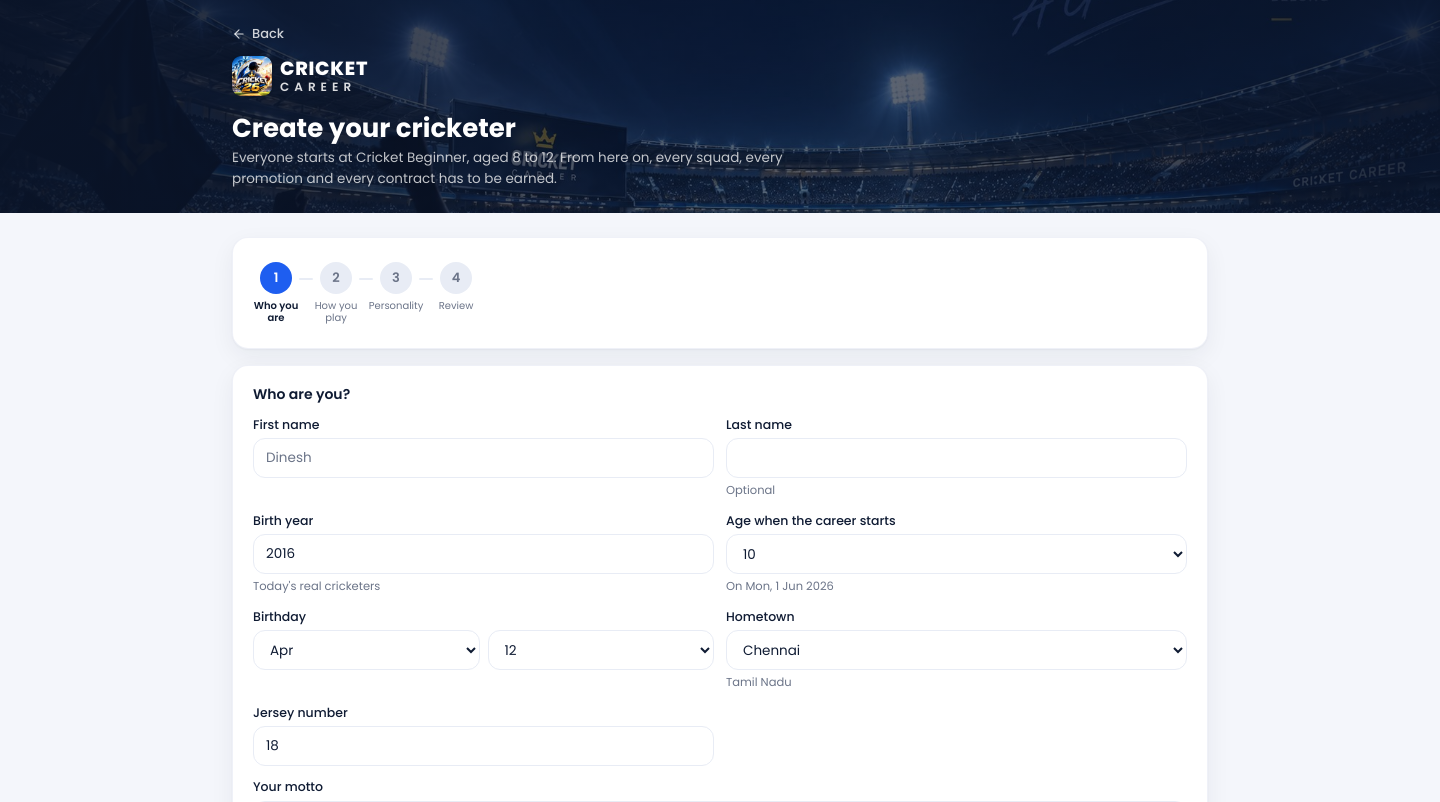
Test case: NewCareer wizard › will not start a career after today's season
This screenshot has width=1440, height=802.
Type "Kid" into the field labelled "First name" at (484, 458), box x1=253 y1=438 x2=714 y2=478
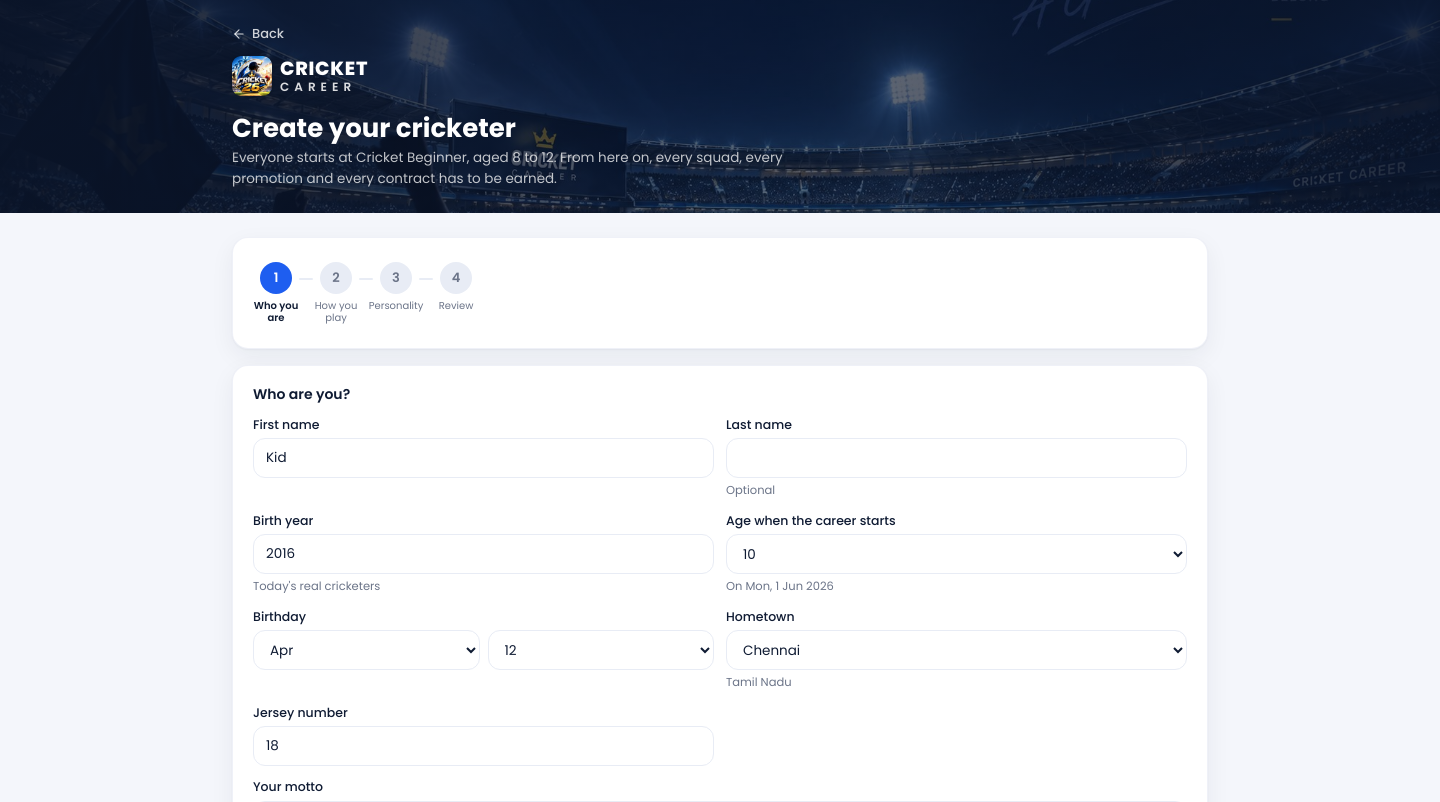
Replace the text in the number field labelled "Birth year" with "2017" at (484, 554), box x1=253 y1=534 x2=714 y2=574
(page scrolled)
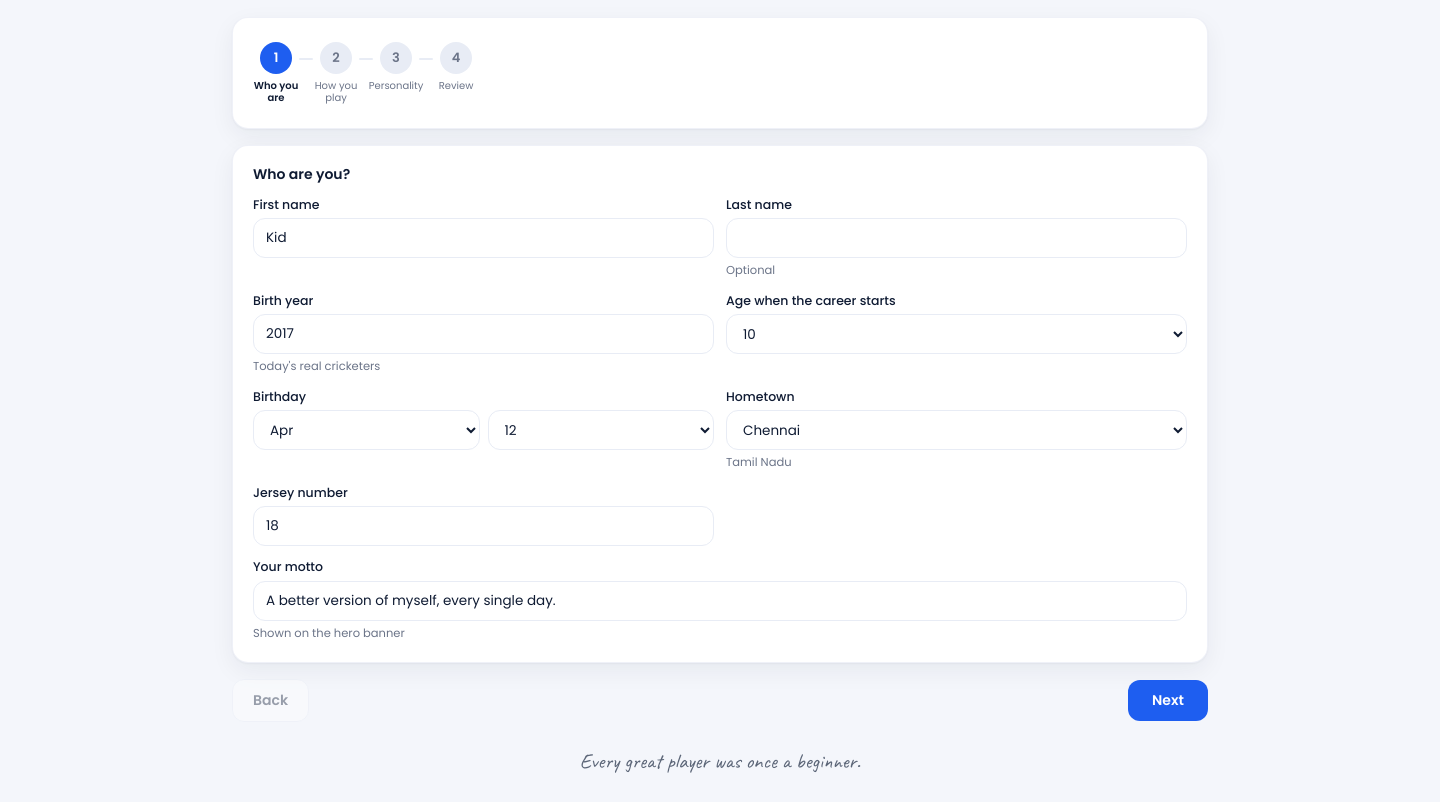
Click the button "Next" at (1168, 701), box x1=1128 y1=680 x2=1208 y2=721
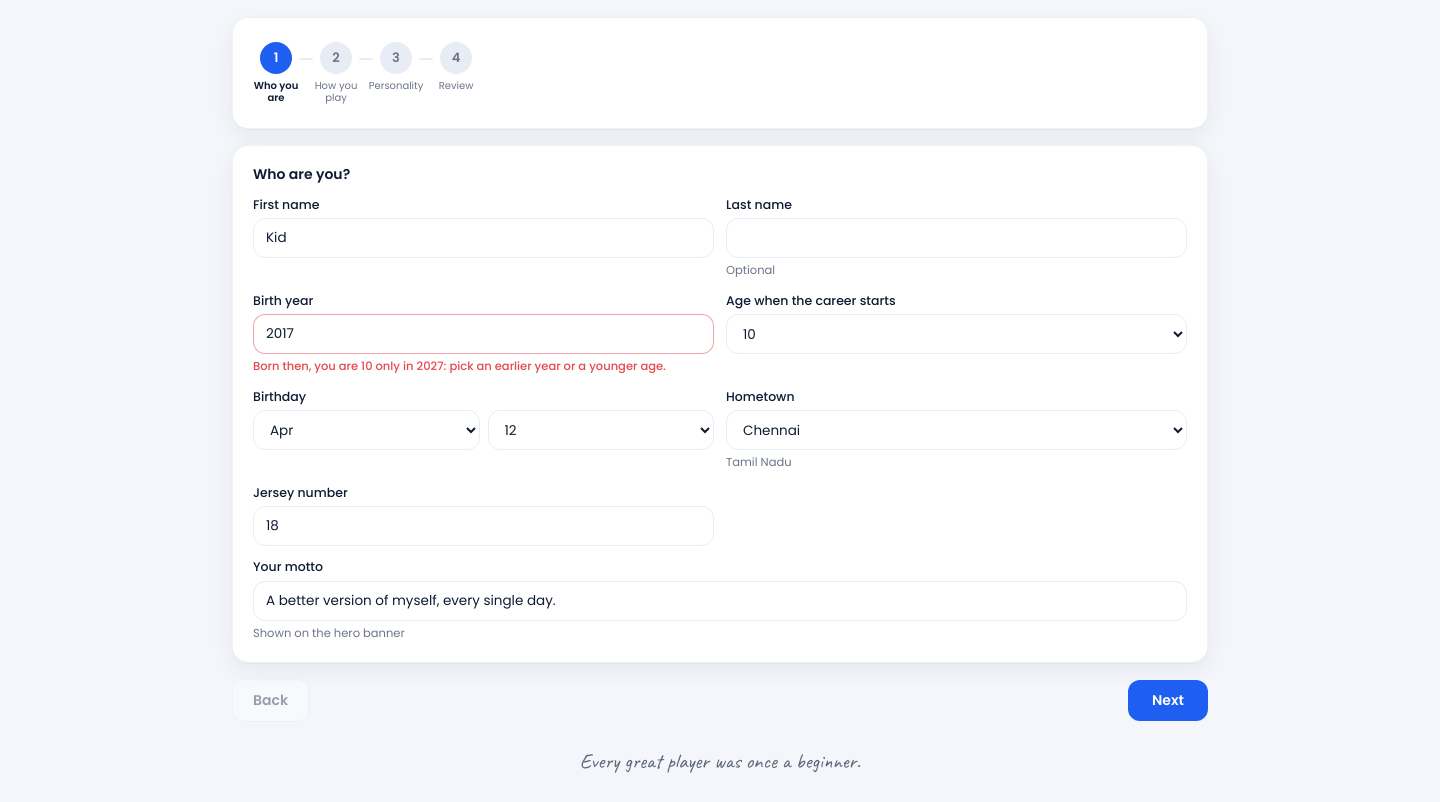
expect the text "only in 2027" is shown: met, box x1=253 y1=358 x2=666 y2=374
Replace the text in the number field labelled "Birth year" with "1970" at (484, 334), box x1=253 y1=314 x2=714 y2=354
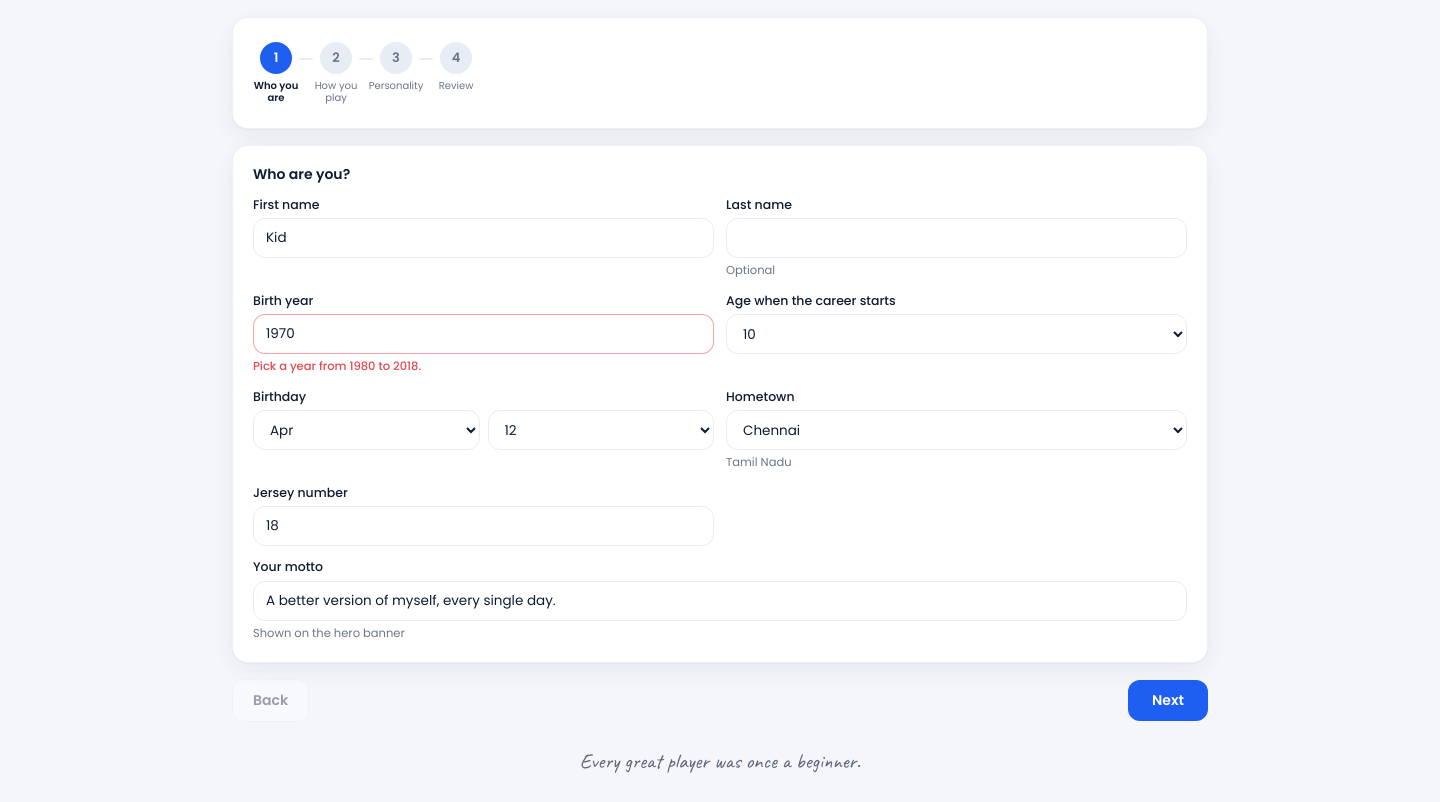
expect the text "Pick a year from 1980 to 2018." is shown: met, box x1=253 y1=358 x2=421 y2=374
